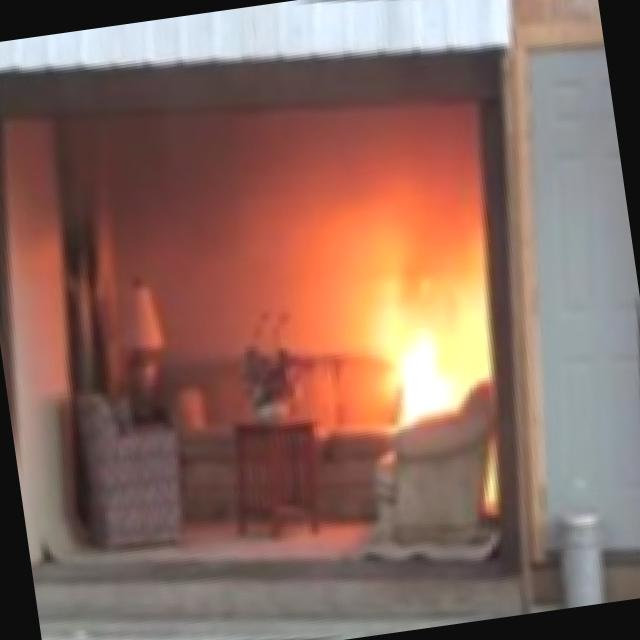fire: (371, 260, 490, 416)
